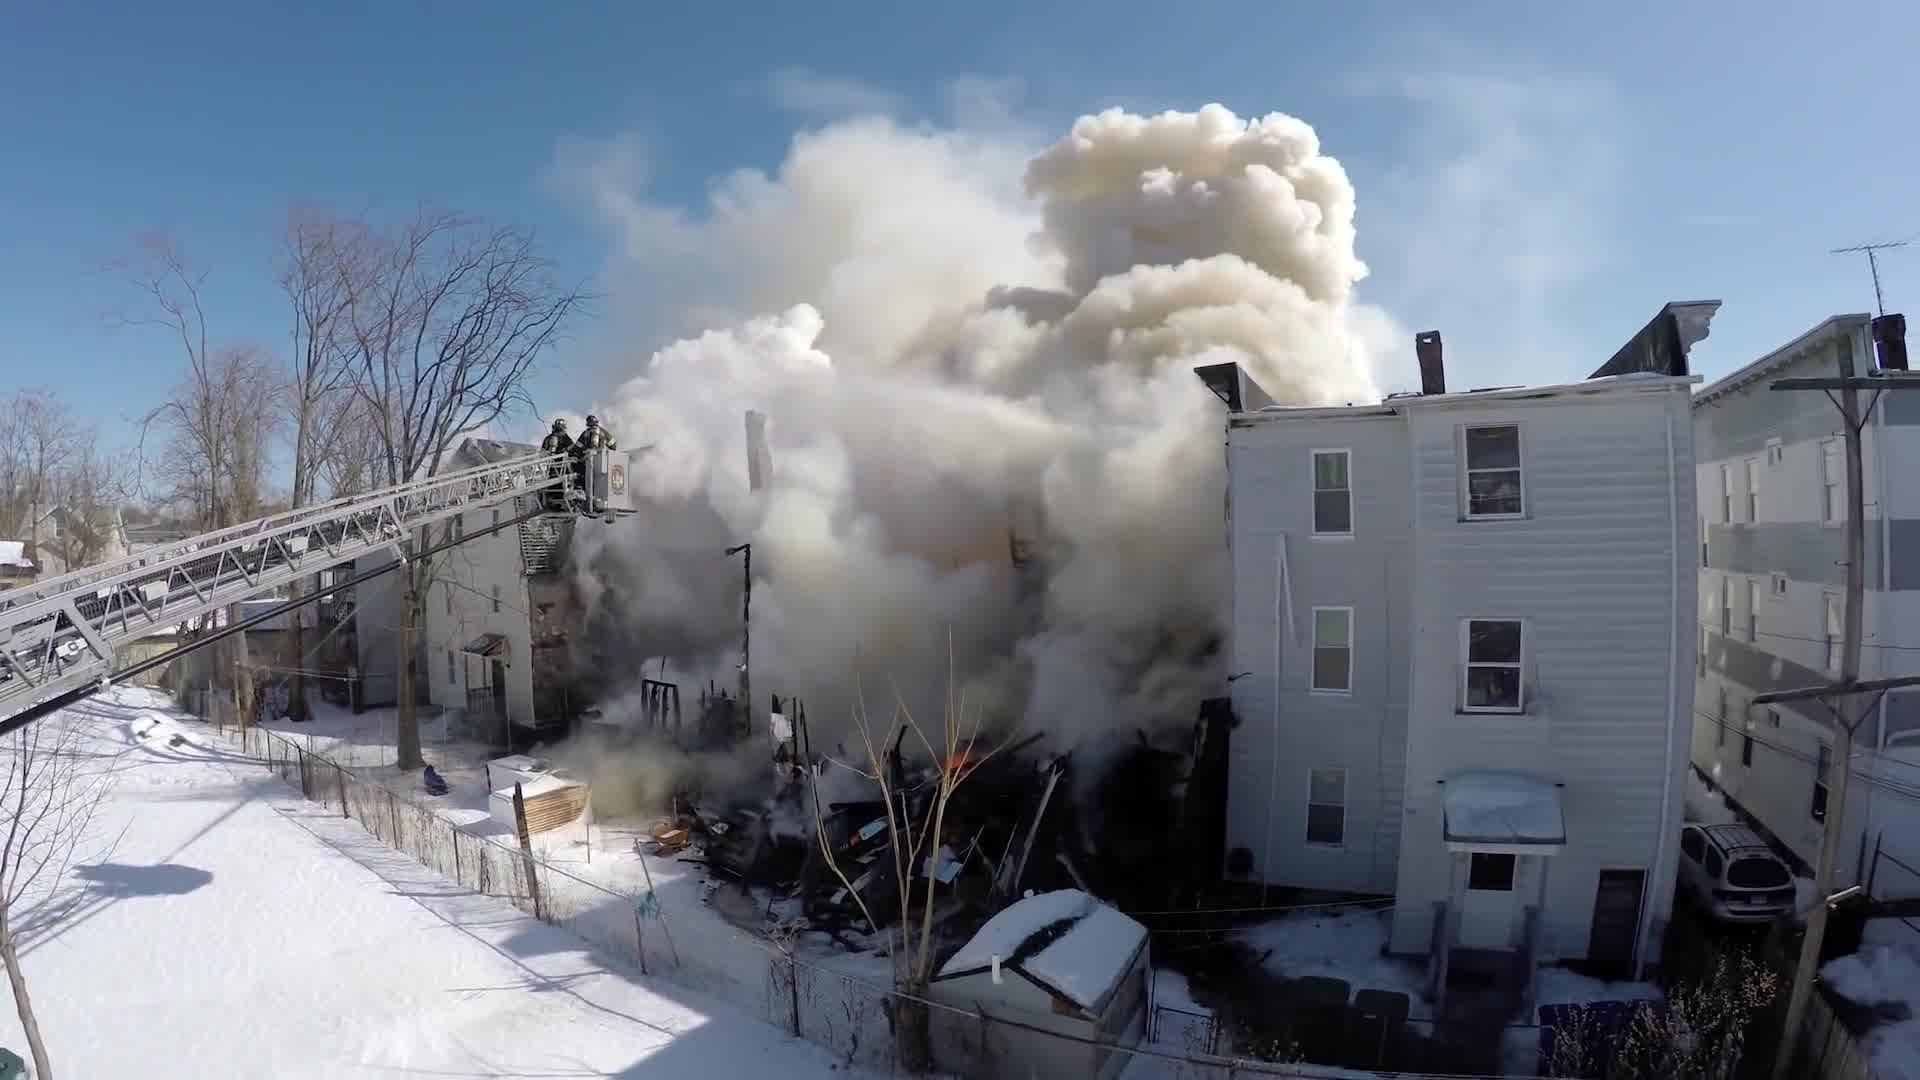smoke: (626, 328, 1236, 628), (1062, 122, 1314, 304)
